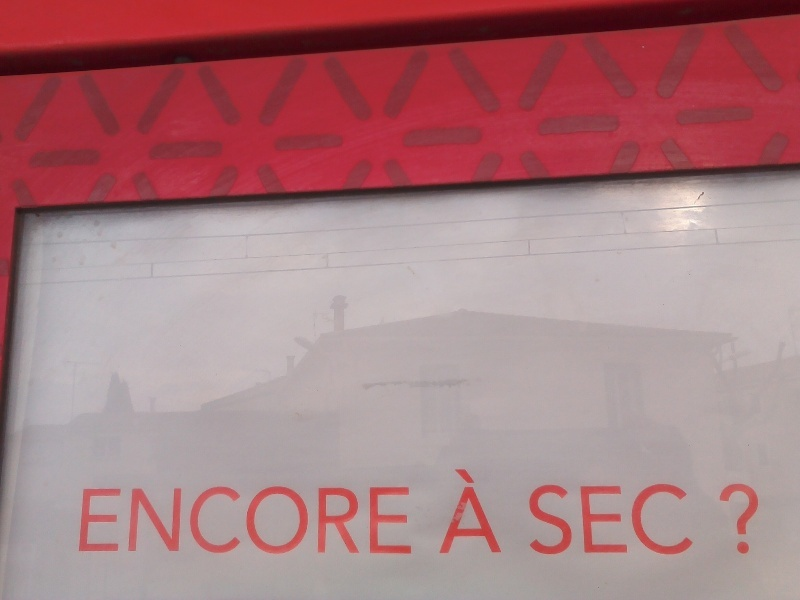text: (465, 469, 480, 558), (481, 469, 496, 558), (721, 481, 736, 556), (737, 481, 752, 556), (529, 482, 544, 556), (545, 482, 560, 556), (561, 482, 576, 556), (577, 482, 592, 556), (593, 482, 608, 556), (609, 482, 624, 556), (625, 482, 640, 556), (641, 482, 656, 556), (657, 482, 672, 556), (673, 482, 688, 556), (81, 485, 96, 555), (97, 485, 112, 555), (113, 485, 128, 555), (129, 485, 144, 555), (145, 485, 160, 555), (161, 485, 176, 555), (177, 485, 192, 555), (193, 485, 208, 555), (209, 485, 224, 555), (225, 485, 240, 555), (241, 485, 256, 555), (257, 485, 272, 555), (273, 485, 288, 555), (289, 485, 304, 555), (305, 485, 320, 555), (321, 485, 336, 555), (337, 485, 352, 555), (353, 485, 368, 555), (369, 485, 384, 555), (385, 485, 400, 555), (401, 485, 413, 555), (455, 469, 464, 558), (497, 469, 504, 558), (753, 481, 760, 556), (689, 482, 693, 556)
